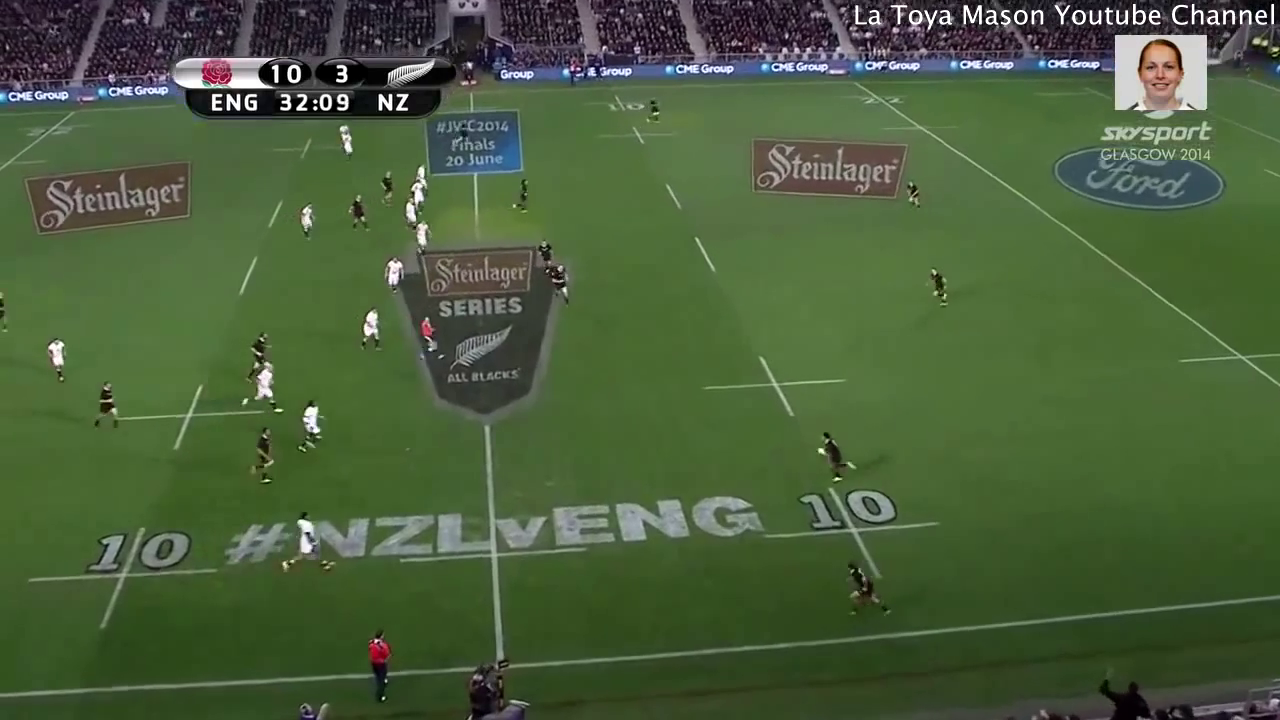10_metre: (21, 525, 219, 626), (764, 480, 944, 586), (118, 381, 257, 459), (697, 354, 850, 424), (593, 124, 679, 151), (586, 93, 649, 118), (271, 137, 331, 163)
ball: (811, 440, 829, 461)
player: (813, 421, 863, 490), (281, 507, 333, 572), (841, 566, 894, 618), (249, 357, 293, 418), (366, 627, 397, 706), (87, 376, 125, 436), (248, 424, 283, 482), (921, 263, 955, 316), (296, 395, 325, 456), (416, 311, 444, 364), (355, 304, 385, 353), (542, 260, 572, 308), (344, 192, 374, 238), (409, 216, 435, 264), (506, 175, 533, 220), (45, 337, 69, 387), (379, 259, 407, 297), (247, 329, 270, 373), (297, 202, 321, 240), (375, 169, 397, 208), (399, 196, 423, 228), (902, 180, 922, 213), (405, 180, 427, 209), (643, 96, 663, 127), (338, 134, 357, 165), (533, 236, 551, 264), (457, 124, 469, 153), (413, 160, 429, 180), (335, 121, 350, 136)
